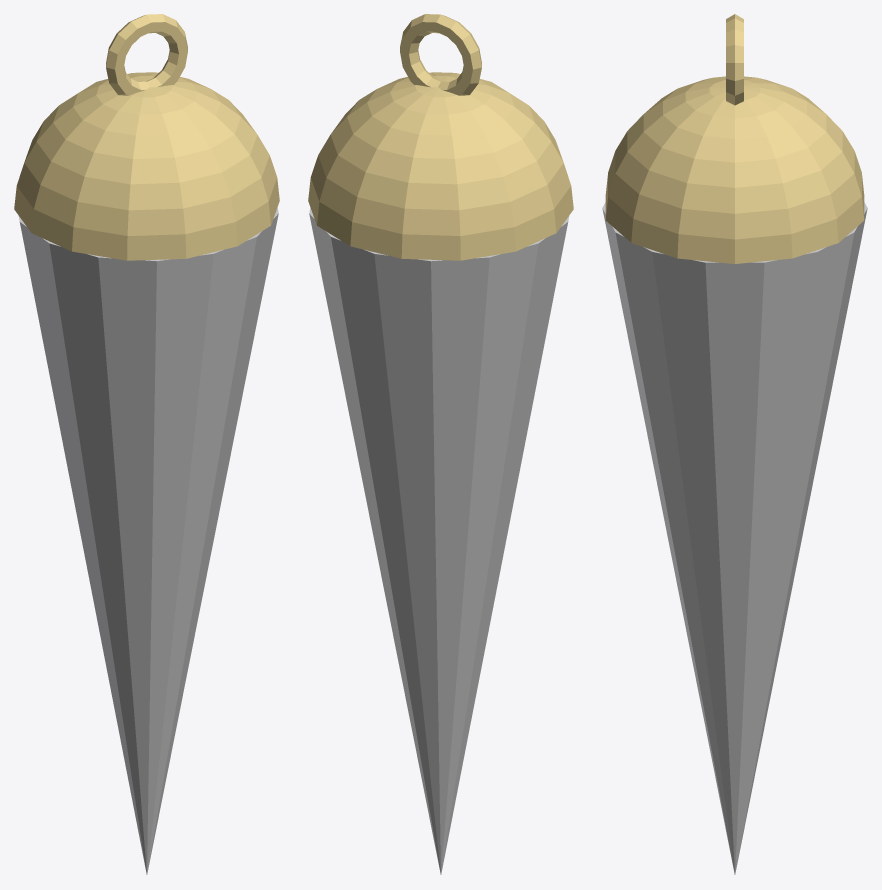
The model's file is icicle-silver-2_5in.glb.
3 views of the same model, side by side, from view 1: azimuth 30°, elevation 25°; view 2: azimuth 150°, elevation 25°; view 3: azimuth 270°, elevation 25° (orthographic).
Parts seen in each view (by area): view 1: icicle; view 2: icicle; view 3: icicle.
Part boxes in pixels (box(x1,y1,x2,y2)): icicle: box(14, 14, 279, 874); icicle: box(308, 14, 573, 874); icicle: box(602, 14, 867, 874).
Bounding box in the file's own units: 0.0178 × 0.0635 × 0.0178.
